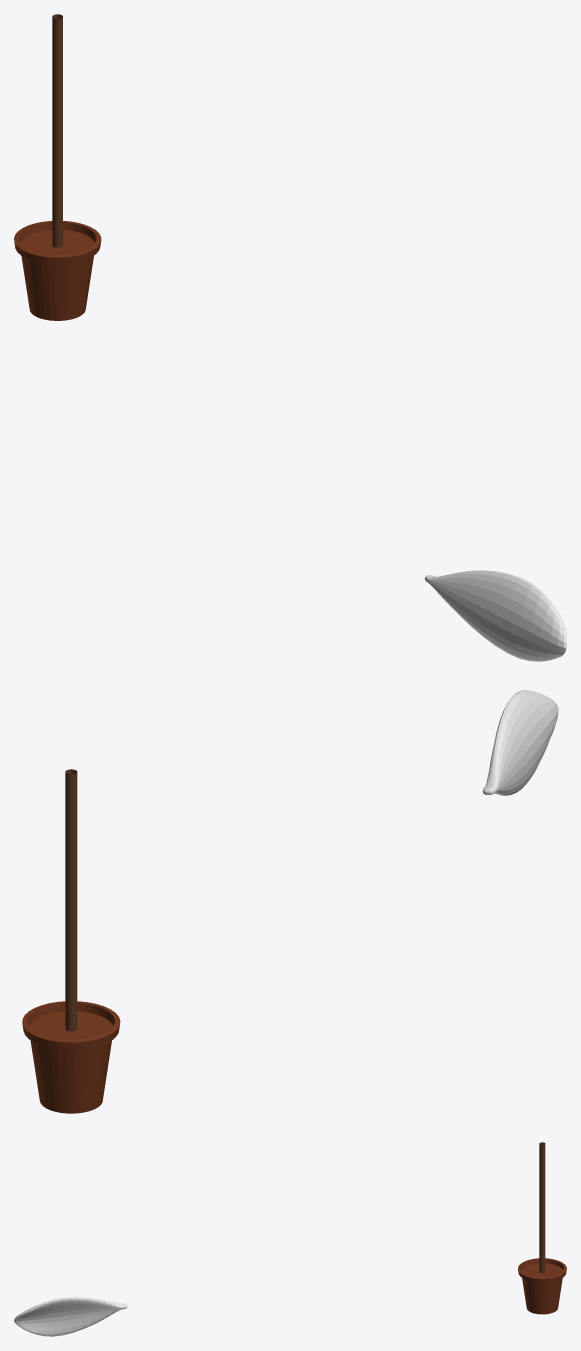
File: PlasticPlant.fbx
3 renders of one model, top to bottom at view 1: azimuth 30°, elevation 25°; view 2: azimuth 150°, elevation 25°; view 3: azimuth 270°, elevation 25°, orthographic. The views are drawn at different scales.
Parts seen in each view (by area): view 1: Leaf, Cylinder, NurbsPath; view 2: Cylinder, Leaf, NurbsPath; view 3: Leaf, Cylinder, NurbsPath.
Boxes of the visible parts, bbox=[...] form: Leaf: bbox=[424, 570, 566, 661]; Cylinder: bbox=[14, 221, 101, 320]; NurbsPath: bbox=[52, 14, 62, 247]; Cylinder: bbox=[22, 1001, 120, 1113]; Leaf: bbox=[482, 690, 558, 795]; NurbsPath: bbox=[65, 769, 77, 1031]; Leaf: bbox=[14, 1297, 127, 1336]; Cylinder: bbox=[518, 1258, 566, 1314]; NurbsPath: bbox=[539, 1142, 545, 1273].
Bounding box in the file's own units: 54.99 × 206 × 558.
